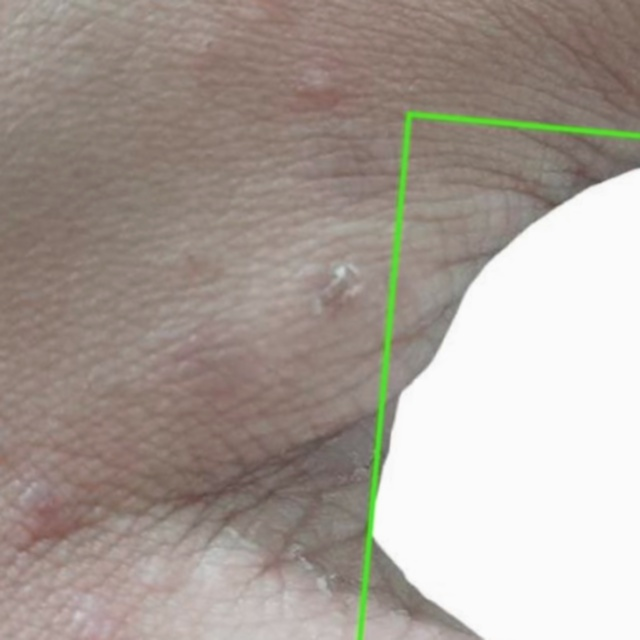Scabies: (360, 114, 639, 639)
